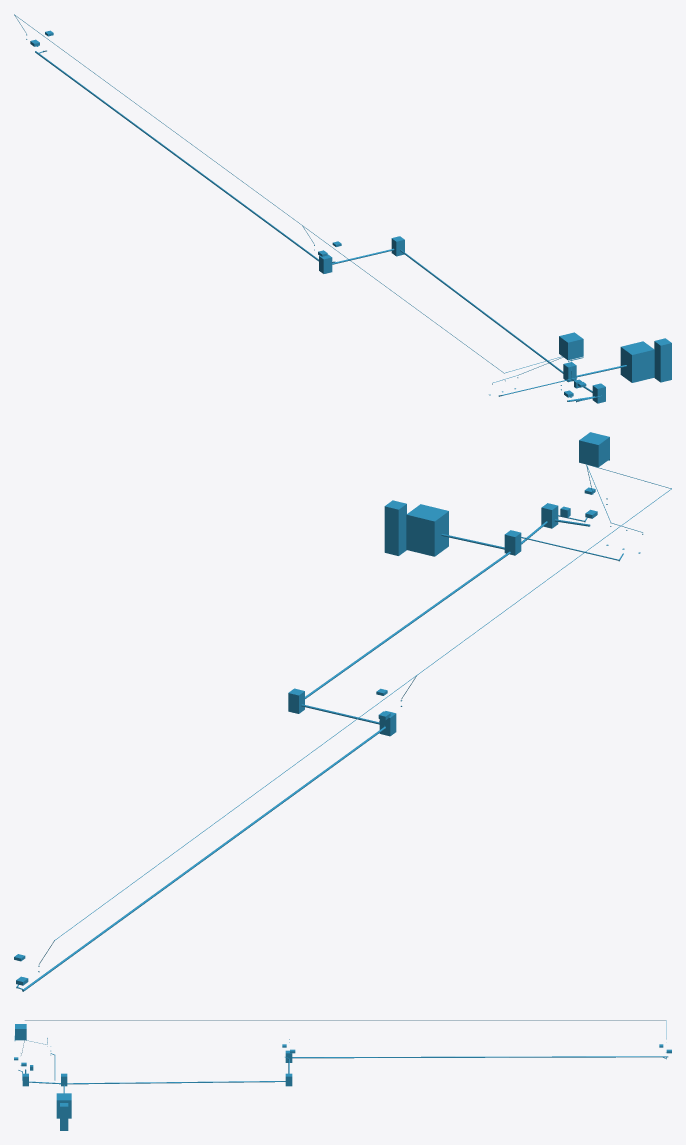
File: sanitair.glb
The picture shows the model from 3 angles, top to bottom: view 1: azimuth 30°, elevation 25°; view 2: azimuth 150°, elevation 25°; view 3: azimuth 270°, elevation 25°; orthographic projection. The views are drawn at different scales.
Parts seen in each view (by area): view 1: sanitair; view 2: sanitair; view 3: sanitair.
Part boxes in pixels (box(x1,y1,x2,y2)): sanitair: box(14, 14, 671, 403); sanitair: box(14, 432, 671, 991); sanitair: box(14, 1020, 671, 1130).
Bounding box in the file's own units: 13.81 × 6.5 × 61.73.
